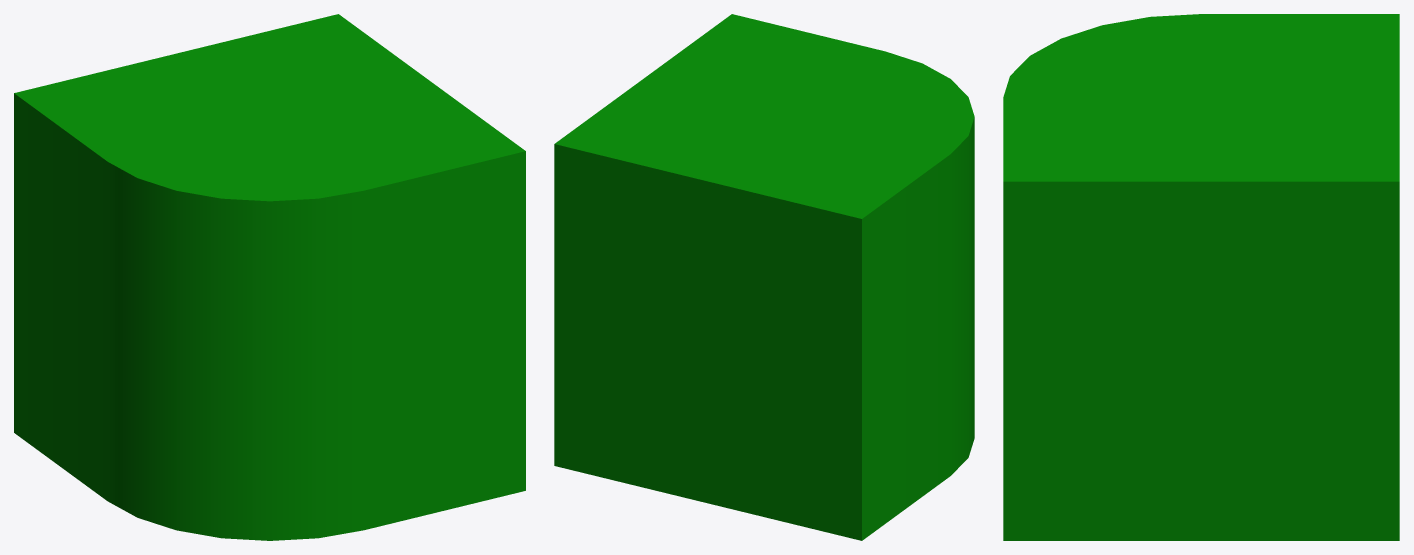
The model's file is CornerSquareGrass.fbx.
3 renders of one model, left to right at view 1: azimuth 30°, elevation 25°; view 2: azimuth 150°, elevation 25°; view 3: azimuth 270°, elevation 25°, orthographic. The views are drawn at different scales.
Visible parts, largest first — view 1: Tile_Corner_Foundation; view 2: Tile_Corner_Foundation; view 3: Tile_Corner_Foundation.
Boxes of the visible parts, <box> form: Tile_Corner_Foundation: <box>14,14,525,540</box>; Tile_Corner_Foundation: <box>554,14,974,540</box>; Tile_Corner_Foundation: <box>1003,14,1399,540</box>.
Size of the model in its own units: 200 by 200 by 200.
